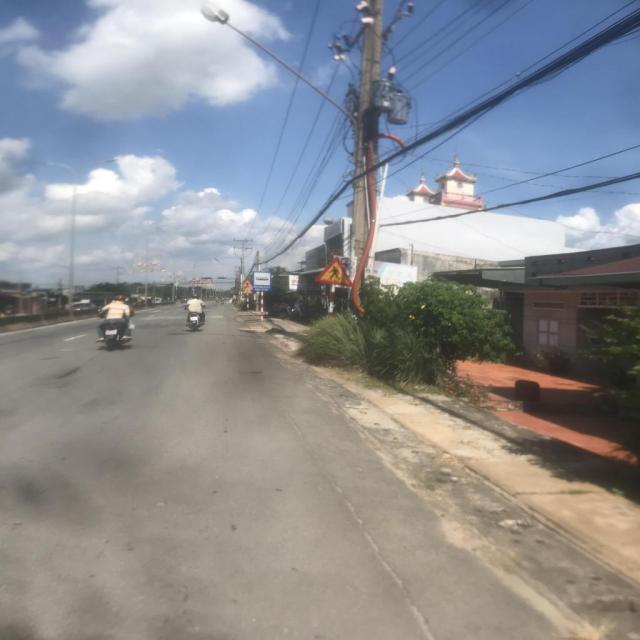cam_xe_di_nguoc_chieu: (191, 285, 195, 288)
chu_y_nguoi_di_bo_cat_ngang: (313, 255, 354, 288)
giao_nhau_co_tin_hieu_den: (242, 287, 253, 294)
giao_nhau_voi_duong_khong_uu_tien: (241, 280, 254, 288)
huong_phai_di_vuot_chuong_ngai_vat_phai: (190, 288, 196, 292)
khac: (252, 271, 271, 292)
